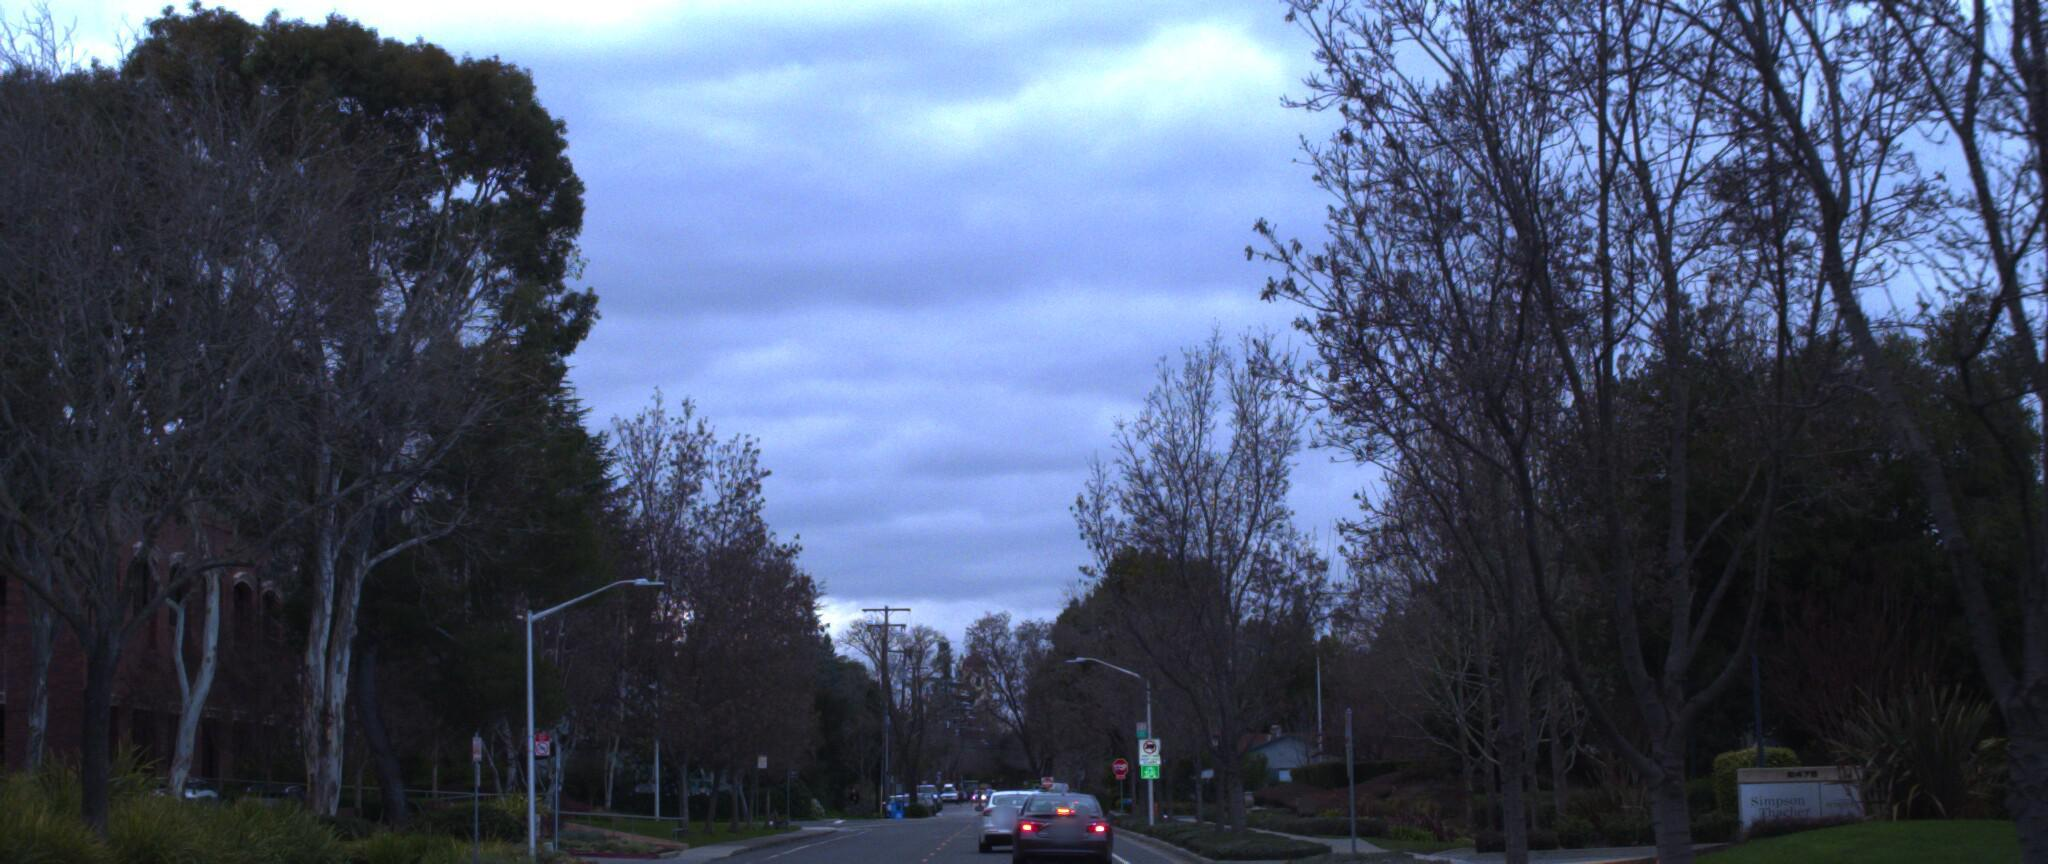car: (1000, 790, 1106, 864), (963, 787, 1048, 847)
